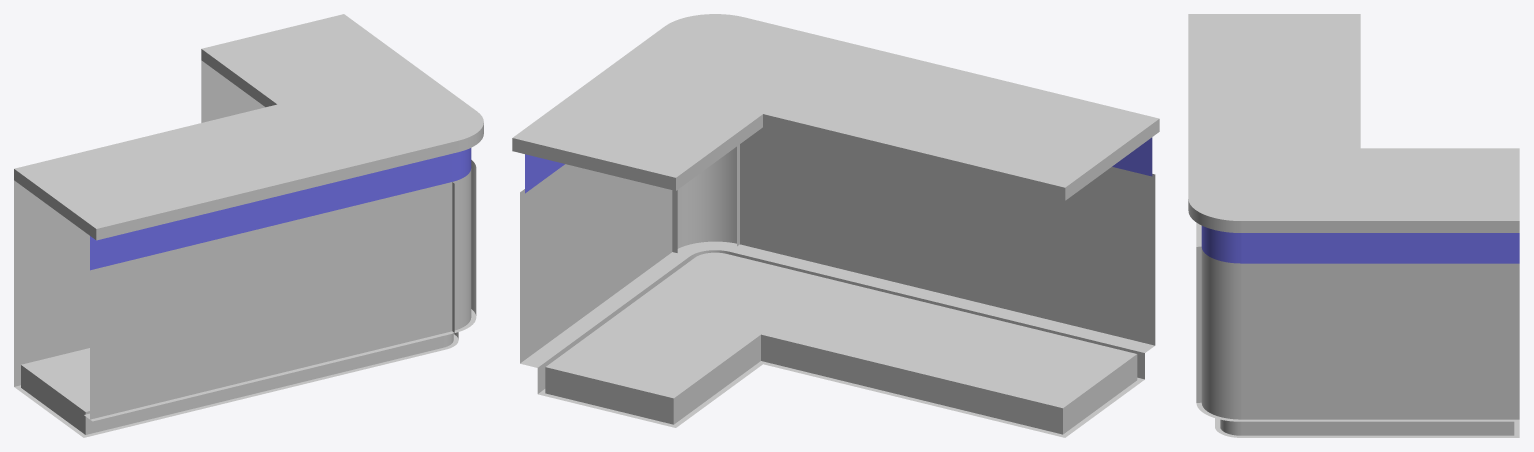
File: counter-set-02-03.glb
3 views of the same model, side by side, from view 1: azimuth 30°, elevation 25°; view 2: azimuth 150°, elevation 25°; view 3: azimuth 270°, elevation 25° (orthographic). The views are drawn at different scales.
Visible parts, largest first — view 1: 3DGeom-8, 3DGeom-12, 3DGeom-9; view 2: 3DGeom-8, 3DGeom-12, 3DGeom-9; view 3: 3DGeom-8, 3DGeom-12, 3DGeom-9.
Boxes of the visible parts, x1,y1,x2,y2 form: 3DGeom-8: [14, 60, 476, 437]; 3DGeom-12: [14, 14, 483, 240]; 3DGeom-9: [90, 148, 471, 270]; 3DGeom-8: [520, 127, 1155, 437]; 3DGeom-12: [512, 14, 1159, 200]; 3DGeom-9: [525, 137, 1152, 193]; 3DGeom-8: [1196, 222, 1519, 437]; 3DGeom-12: [1188, 14, 1519, 232]; 3DGeom-9: [1201, 226, 1519, 263].
Bounding box in the file's own units: 1.85 × 0.95 × 1.25.
